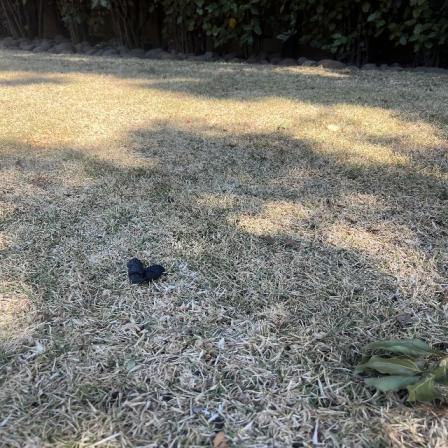dog-poop: (118, 255, 176, 290)
